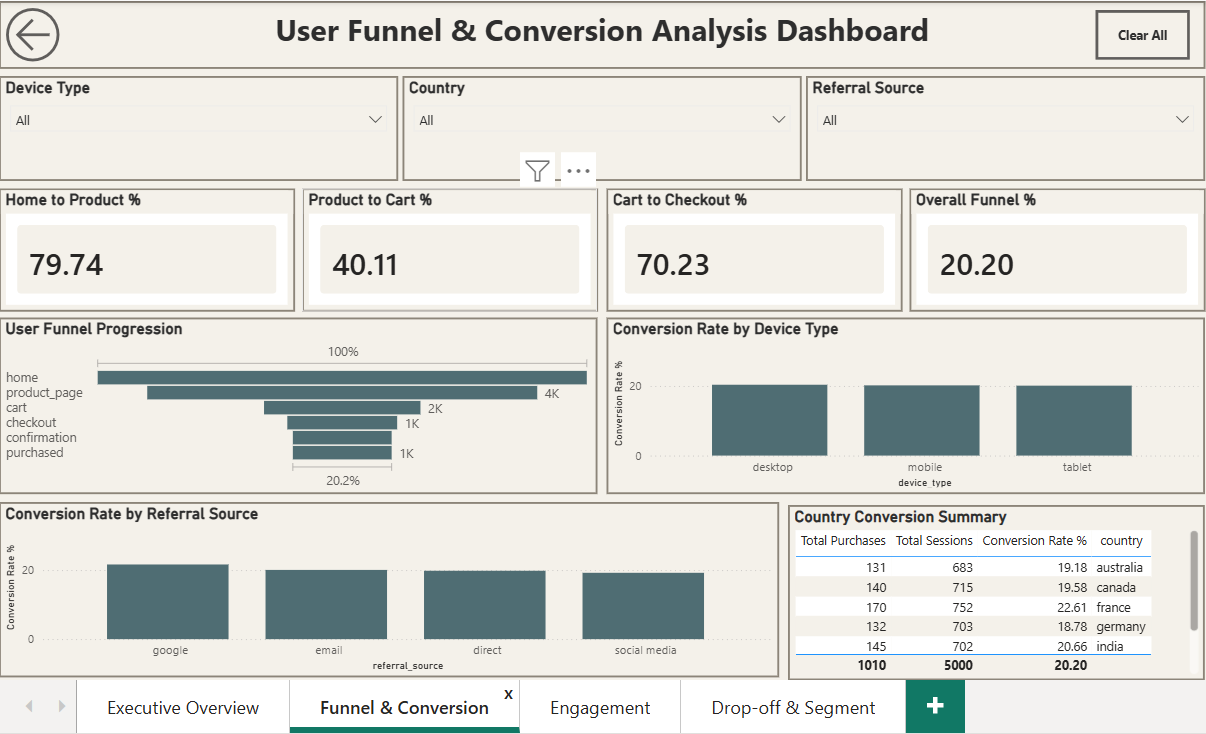

What the dashboard file says about the page in this screenshot:
{"tool":"powerbi","page":{"name":"Funnel & Conversion","canvas":[1280,720],"ordinal":1},"visuals":[{"type":"textbox","box":[0,0,1279.4,71.8],"z":0},{"type":"slicer","title":"Device Type","fields":{"Values":["session_master.device_type"]},"box":[0,79.4,423.3,111.5],"z":1000},{"type":"slicer","title":"Referral Source","fields":{"Values":["session_master.referral_source"]},"box":[856.1,79.4,423.3,111.5],"z":2000},{"type":"slicer","title":"Country","fields":{"Values":["session_master.country"]},"box":[427.1,79.4,423.3,111.5],"z":3000},{"type":"cardVisual","title":"Home to Product %","fields":{"Data":["session_master.Home to Product %"]},"box":[0,198.4,313.7,130.4],"z":4000},{"type":"cardVisual","title":"Overall Funnel %","fields":{"Data":["session_master.Overall Funnel %"]},"box":[965.7,198.4,313.7,130.4],"z":5000},{"type":"cardVisual","title":"Cart to Checkout %","fields":{"Data":["session_master.Cart to Checkout %"]},"box":[644.4,198.4,313.7,130.4],"z":6000},{"type":"cardVisual","title":"Product to Cart %","fields":{"Data":["session_master.Product to Cart %"]},"box":[321.3,198.4,313.7,130.4],"z":7000},{"type":"funnel","title":"User Funnel Progression","fields":{"Category":["funnel_summary_enhanced.stage"],"Y":["Sum(funnel_summary_enhanced.sessions)"]},"box":[0,336.4,635,187.1],"z":8000},{"type":"clusteredColumnChart","title":"Conversion Rate by Referral Source","fields":{"Category":["session_master.referral_source"],"Y":["session_master.Conversion Rate %"]},"box":[0,531.3,827.1,186.1],"z":9000},{"type":"clusteredColumnChart","title":"Conversion Rate by Device Type","fields":{"Category":["session_master.device_type"],"Y":["session_master.Conversion Rate %"]},"box":[644.4,336.4,635,187.1],"z":10000},{"type":"tableEx","title":"Country Conversion Summary","fields":{"Values":["session_master.Total Purchases","session_master.Total Sessions","session_master.Conversion Rate %","session_master.country"]},"box":[836.7,534.4,442.2,186.1],"z":11000},{"type":"actionButton","box":[0,0,76.3,71.6],"z":12000},{"type":"actionButton","box":[1162.2,9.4,100.2,52.9],"z":13000}]}

Visuals, with their boxes on the page's 1280x720 design canvas (x1, y1, x2, y2). These are canvas units, not pixel positions in the 1206x734 screenshot, which may show the page scaled, cropped or inside an application window:
textbox: Rect(0, 0, 1279, 72)
"Device Type" slicer: Rect(0, 79, 423, 191)
"Referral Source" slicer: Rect(856, 79, 1279, 191)
"Country" slicer: Rect(427, 79, 850, 191)
"Home to Product %" cardVisual: Rect(0, 198, 314, 329)
"Overall Funnel %" cardVisual: Rect(966, 198, 1279, 329)
"Cart to Checkout %" cardVisual: Rect(644, 198, 958, 329)
"Product to Cart %" cardVisual: Rect(321, 198, 635, 329)
"User Funnel Progression" funnel: Rect(0, 336, 635, 524)
"Conversion Rate by Referral Source" clusteredColumnChart: Rect(0, 531, 827, 717)
"Conversion Rate by Device Type" clusteredColumnChart: Rect(644, 336, 1279, 524)
"Country Conversion Summary" tableEx: Rect(837, 534, 1279, 720)
actionButton: Rect(0, 0, 76, 72)
actionButton: Rect(1162, 9, 1262, 62)
